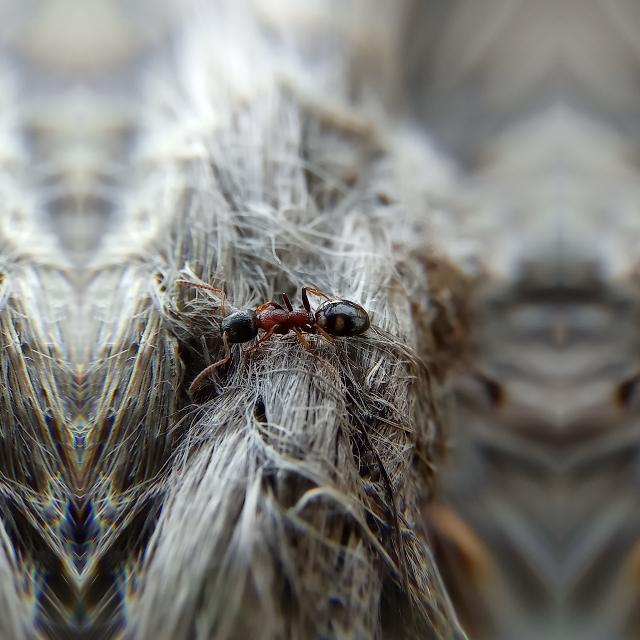Dolichoderus: (195, 252, 387, 388)
